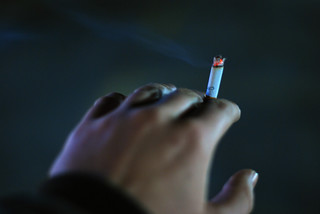cigarette: (205, 53, 228, 102)
